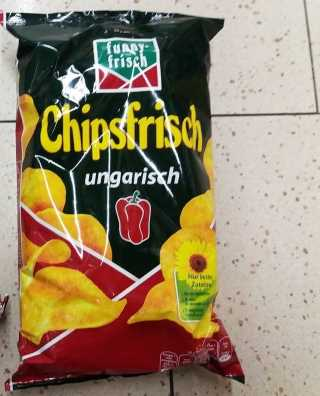chipsfrisch: (1, 8, 246, 392)
